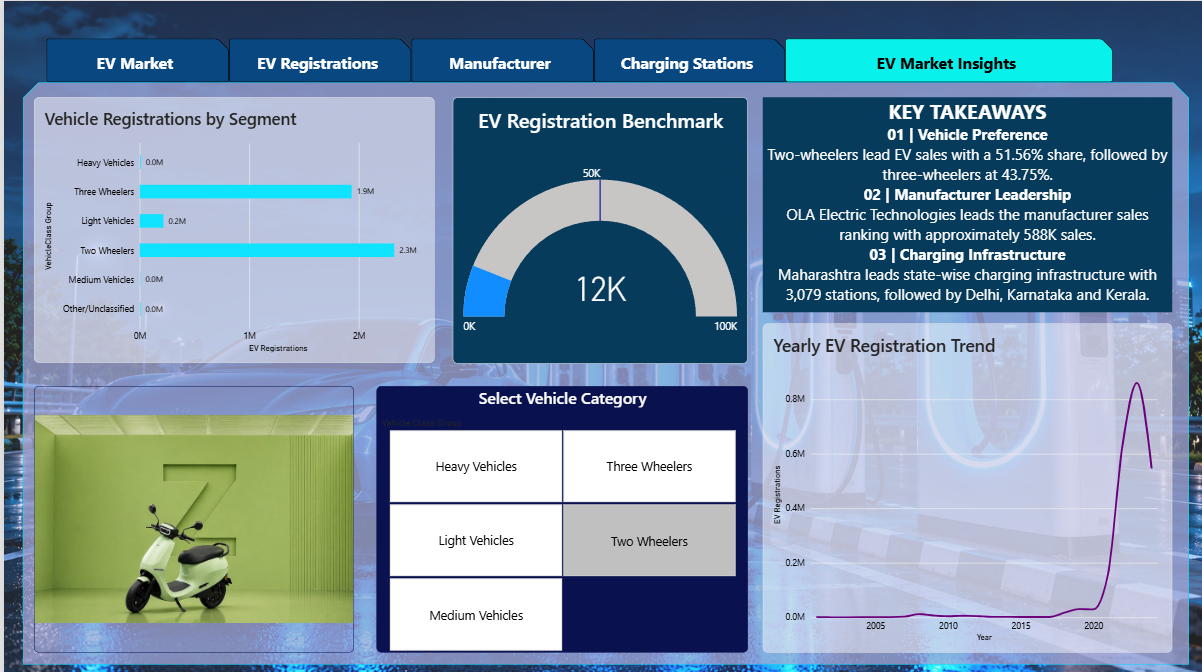

The page's visual inventory and layout, read from the dashboard file:
{"tool":"powerbi","page":{"name":"EV Market Insights","canvas":[1920,1080],"ordinal":4},"visuals":[{"type":"shape","box":[30,130,1866,932],"z":0},{"type":"clusteredBarChart","title":"Vehicle Registrations by Segment","fields":{"Category":["VehicleClass Order.VehicleClass Group"],"Y":["DAX_Measures_Tbl.Total EV Registrations"]},"box":[47.9,154.6,640.5,425.2],"z":1000},{"type":"slicer","title":"Select Vehicle Category","fields":{"Values":["VehicleClass Image.Vehicle Class Group"]},"box":[596,616,594,426],"z":2000},{"type":"image","box":[48,616,512,426],"z":3000},{"type":"textbox","box":[1214.7,154.6,655.2,344.2],"z":4000},{"type":"gauge","title":"EV Registration Benchmark","fields":{"MaxValue":["DAX_Measures_Tbl.Gauge Max"],"MinValue":["DAX_Measures_Tbl.Gauge Min"],"TargetValue":["DAX_Measures_Tbl.Gauge Target"],"Y":["DAX_Measures_Tbl.Total Charging Stations"]},"box":[718,154,472,426],"z":5000},{"type":"actionButton","box":[1250,60,524,70],"z":6000},{"type":"actionButton","box":[68,60,291.7,70],"z":7000},{"type":"actionButton","box":[360,60,291.7,70],"z":8000},{"type":"actionButton","box":[652,60,291.7,70],"z":9000},{"type":"actionButton","box":[944,60,306,70],"z":10000},{"type":"lineChart","title":"Yearly EV Registration Trend","fields":{"Category":["DimDate.Date.Variation.Date Hierarchy.Year"],"Y":["DAX_Measures_Tbl.EV Registrations"]},"box":[1214.7,515.3,655.2,526.4],"z":11000}]}

Visuals, with their boxes in screenshot pixels (x1, y1, x2, y2), scaled from the page's 1920x1080 canvas onto the 1202x672 screenshot:
shape: locate(19, 81, 1187, 661)
"Vehicle Registrations by Segment" clusteredBarChart: locate(30, 96, 431, 361)
"Select Vehicle Category" slicer: locate(373, 383, 745, 648)
image: locate(30, 383, 351, 648)
textbox: locate(760, 96, 1171, 310)
"EV Registration Benchmark" gauge: locate(449, 96, 745, 361)
actionButton: locate(783, 37, 1111, 81)
actionButton: locate(43, 37, 225, 81)
actionButton: locate(225, 37, 408, 81)
actionButton: locate(408, 37, 591, 81)
actionButton: locate(591, 37, 783, 81)
"Yearly EV Registration Trend" lineChart: locate(760, 321, 1171, 648)
